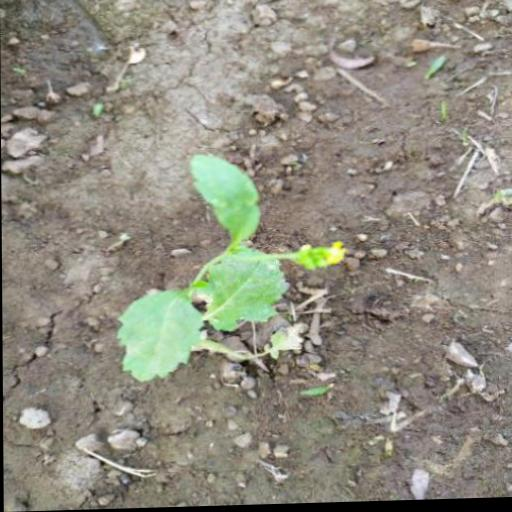weed: (107, 169, 346, 414)
